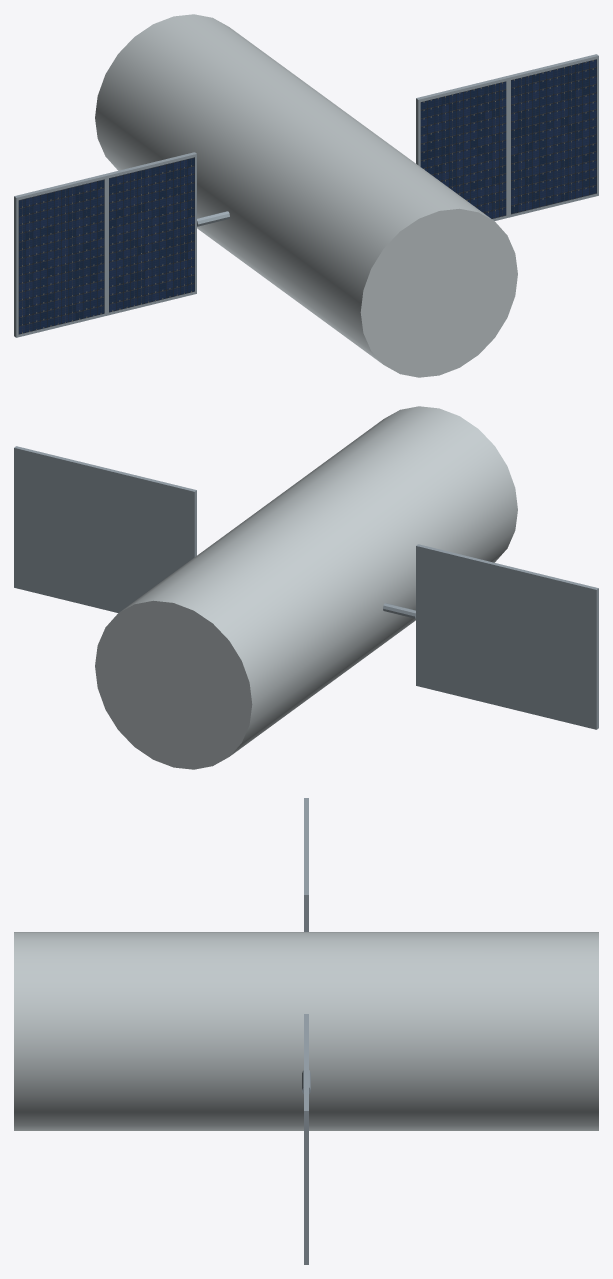
Rendered from ref-resurs-dk-29228.glb.
3 renders of one model, top to bottom at view 1: azimuth 30°, elevation 25°; view 2: azimuth 150°, elevation 25°; view 3: azimuth 270°, elevation 25°, orthographic. The views are drawn at different scales.
Visible parts, largest first — view 1: Spacecraft body, Photovoltaic laminates (×4), Array frame (×4); view 2: Spacecraft body, Array frame (×4); view 3: Spacecraft body, Array frame.
Boxes of the visible parts, x1,y1,x2,y2 form: Spacecraft body: (95, 14, 517, 377); Photovoltaic laminates (×4): (18, 59, 596, 334); Array frame (×4): (14, 54, 598, 337); Spacecraft body: (95, 406, 517, 769); Array frame (×4): (14, 446, 598, 729); Spacecraft body: (14, 932, 598, 1130); Array frame: (304, 1062, 308, 1264).
Bounding box in the file's own units: 10 × 2.7 × 7.9.
3 materials, 1 textured.
